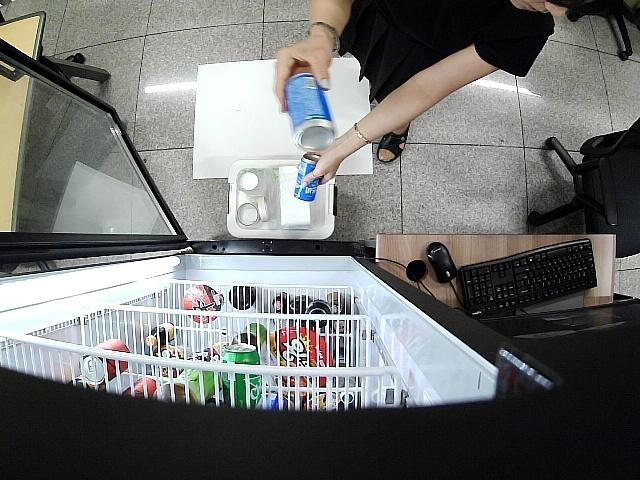15_letsbe: (284, 74, 336, 152), (292, 154, 322, 202)
